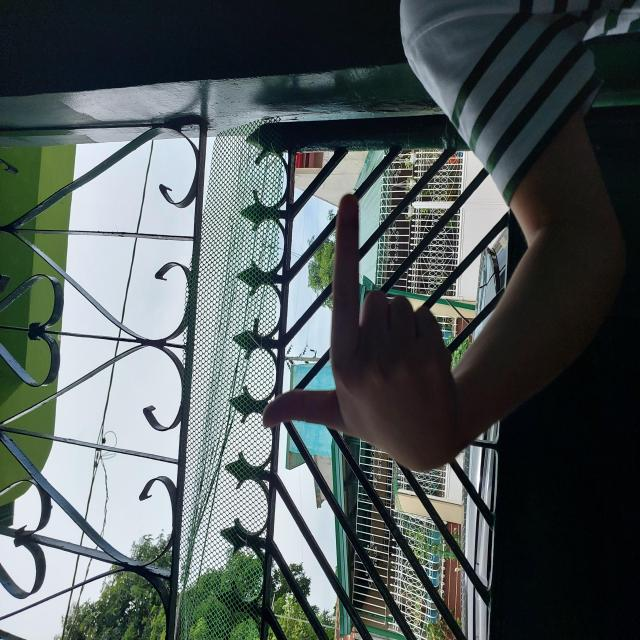G: (164, 260, 451, 459)
